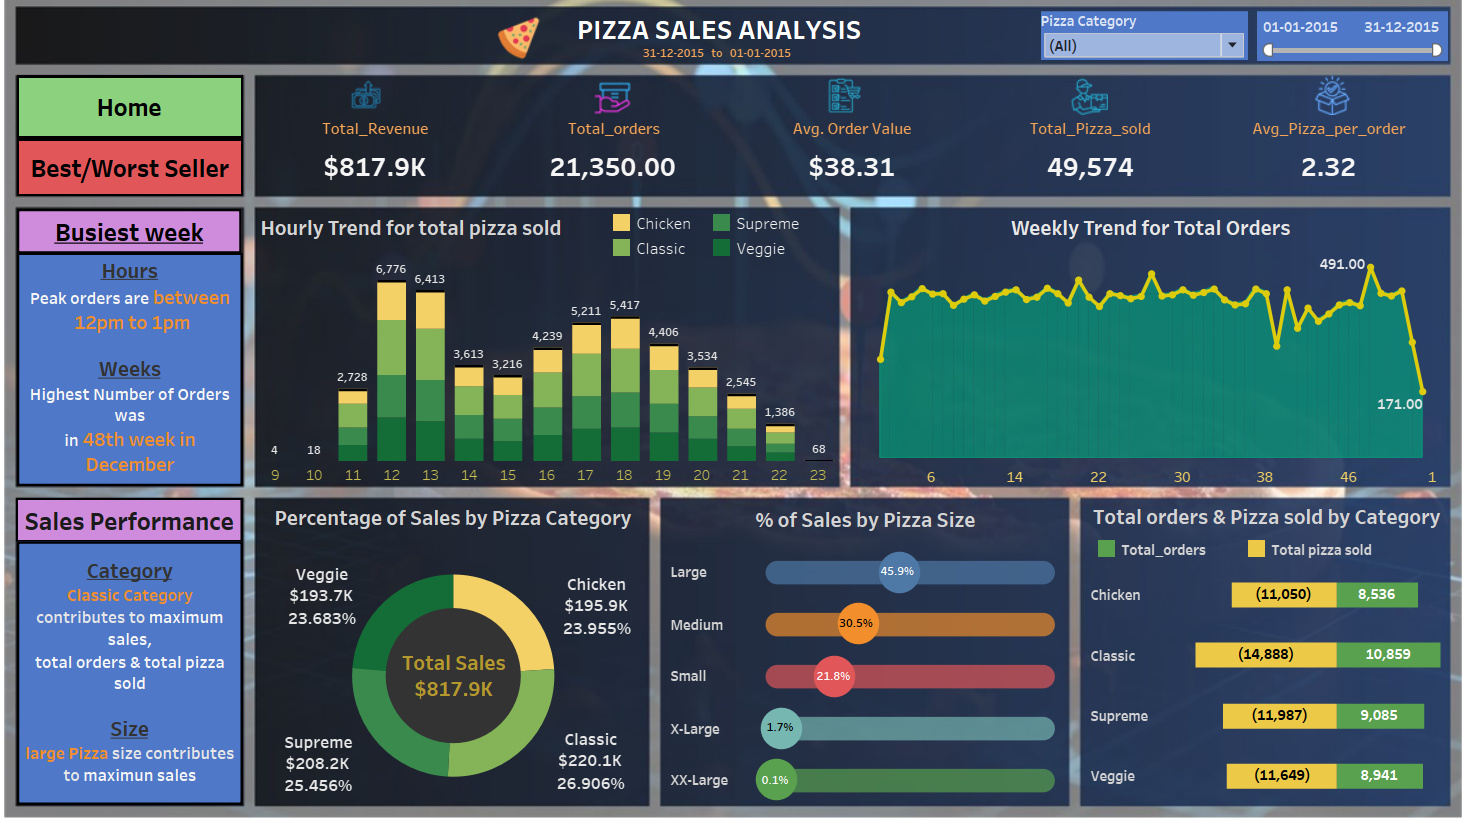

What the dashboard file says about the page in this screenshot:
{"tool":"tableau","page":{"name":"HOME","canvas":[1000,1000],"units":"permille","ordinal":1},"visuals":[{"type":"image","param":"Image/Pizza Tableau 1.jpg","box":[7.6,13.5,984.8,973.1]},{"type":"text","box":[393.3,26.5,195,54.4]},{"type":"filter","title":"Hourly Trend for total pizza sold","param":"[federated.0asfra31pvvvp81cpj28w1fmcxx7].[none:pizza_category:nk]","box":[701,33.7,144.8,62.3]},{"type":"filter","title":"Hourly Trend for total pizza sold","param":"[federated.0asfra31pvvvp81cpj28w1fmcxx7].[none:order_date:qk]","box":[849.2,33.8,127.5,58.8]},{"type":"image","param":"Image/pizza-slice.png","box":[376.2,38.7,49.5,48.8]},{"type":"worksheet","title":"Min to Max date","mark":"Automatic","box":[420,69.1,140,29.4]},{"type":"image","param":"Image/order (1).png","box":[875,108.8,49.2,47.1]},{"type":"dashboard-object","box":[22.9,109.4,150.5,74.1]},{"type":"image","param":"Image/profit-growth.png","box":[225,111.8,60,38.2]},{"type":"image","param":"Image/shipping-box.png","box":[398.3,111.8,42.5,47.1]},{"type":"image","param":"Image/order-delivery.png","box":[555,111.8,39.2,41.2]},{"type":"image","param":"Image/delivery-man.png","box":[720,111.8,35,44.1]},{"type":"worksheet","title":"KPI Banner","mark":"Text","box":[181.7,155.9,795,92.7]},{"type":"dashboard-object","box":[22.5,183.8,150.8,67.7]},{"type":"text","box":[22.9,266,151.4,60.6]},{"type":"worksheet","title":"Hourly Trend for total pizza sold","mark":"Bar","rows":["Calculation_269090144396161027","Calculation_269090144396161027"],"cols":["order_time"],"box":[181.7,266.2,389.2,326.5]},{"type":"worksheet","title":"Weekly Trend for Total Orders","mark":"Area","rows":["Calculation_269090144396378116","Calculation_269090144396378116"],"cols":["order_date"],"box":[578.3,266.2,400,326.5]},{"type":"legend","title":"Hourly Trend for total pizza sold","param":"[federated.0asfra31pvvvp81cpj28w1fmcxx7].[none:pizza_category:nk]","box":[421.9,281.1,147.6,107.7]},{"type":"text","box":[22.9,319.9,153.3,272.7]},{"type":"text","box":[732.5,605.9,246.7,44.1]},{"type":"worksheet","title":"Percentage of Sales by Pizza Category","mark":"Pie","rows":["Calculation_269090144458334215","Calculation_269090144458399753"],"box":[182.5,607.4,261.7,361.8]},{"type":"text","box":[24.8,607.7,151.4,52.2]},{"type":"worksheet","title":"% of Sales by Pizza Size","mark":"Automatic","rows":["pizza_size"],"box":[454.3,611.1,263.8,350.2]},{"type":"legend","title":"Total Orders vs Pizza Sold","param":"[federated.0asfra31pvvvp81cpj28w1fmcxx7].[:Measure Names]","box":[740.8,651.5,227.5,33.8]},{"type":"text","box":[24.8,658.2,151.4,309.8]},{"type":"worksheet","title":"Total Orders vs Pizza Sold","mark":"Automatic","rows":["pizza_category"],"box":[733.3,685.3,246.7,283.8]}]}

Visuals, with their boxes on the dashboard's canvas, which has no fixed pixel size, in thousandths of its width and height (x1, y1, x2, y2). These are canvas units, not pixel positions in the 1464x822 screenshot, which may show the page scaled, cropped or inside an application window:
image: box=[8, 14, 992, 987]
text: box=[393, 26, 588, 81]
"Hourly Trend for total pizza sold" filter: box=[701, 34, 846, 96]
"Hourly Trend for total pizza sold" filter: box=[849, 34, 977, 93]
image: box=[376, 39, 426, 88]
"Min to Max date" worksheet: box=[420, 69, 560, 98]
image: box=[875, 109, 924, 156]
dashboard-object: box=[23, 109, 173, 184]
image: box=[225, 112, 285, 150]
image: box=[398, 112, 441, 159]
image: box=[555, 112, 594, 153]
image: box=[720, 112, 755, 156]
"KPI Banner" worksheet (Text marks): box=[182, 156, 977, 249]
dashboard-object: box=[22, 184, 173, 252]
text: box=[23, 266, 174, 327]
"Hourly Trend for total pizza sold" worksheet (Bar marks): box=[182, 266, 571, 593]
"Weekly Trend for Total Orders" worksheet (Area marks): box=[578, 266, 978, 593]
"Hourly Trend for total pizza sold" legend: box=[422, 281, 570, 389]
text: box=[23, 320, 176, 593]
text: box=[732, 606, 979, 650]
"Percentage of Sales by Pizza Category" worksheet (Pie marks): box=[182, 607, 444, 969]
text: box=[25, 608, 176, 660]
"% of Sales by Pizza Size" worksheet: box=[454, 611, 718, 961]
"Total Orders vs Pizza Sold" legend: box=[741, 652, 968, 685]
text: box=[25, 658, 176, 968]
"Total Orders vs Pizza Sold" worksheet: box=[733, 685, 980, 969]
